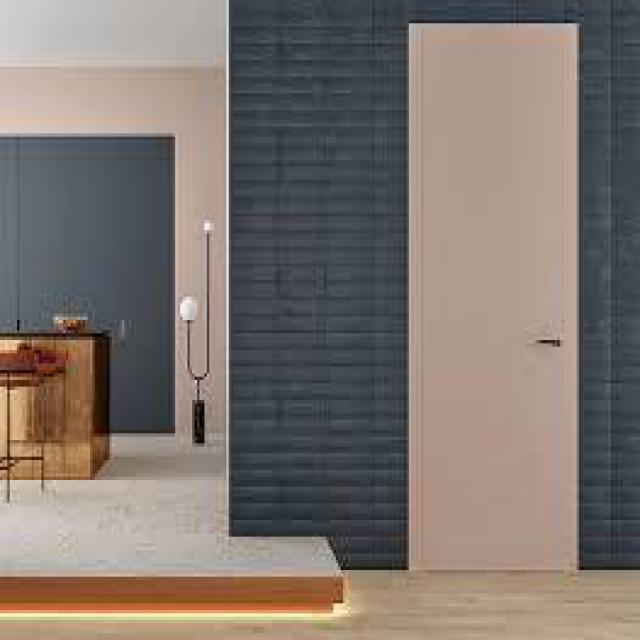close: (387, 13, 599, 587)
